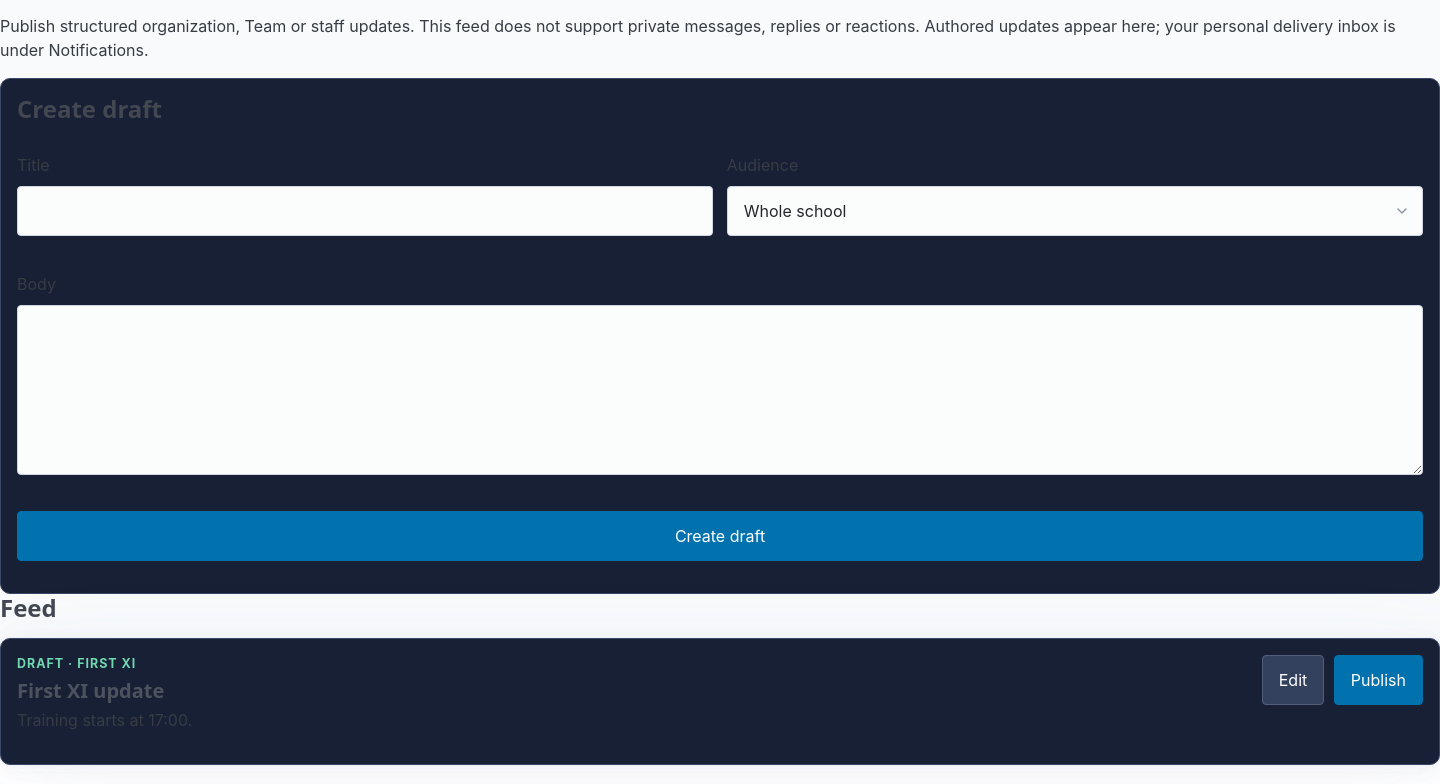
Test case: shared organization announcements view › selects a saved Team and publishes explicitly with delivery counts
(page scrolled)
Click the button with test id "publish-announcement".
click(1378, 680)  # box [1334, 655, 1423, 705]
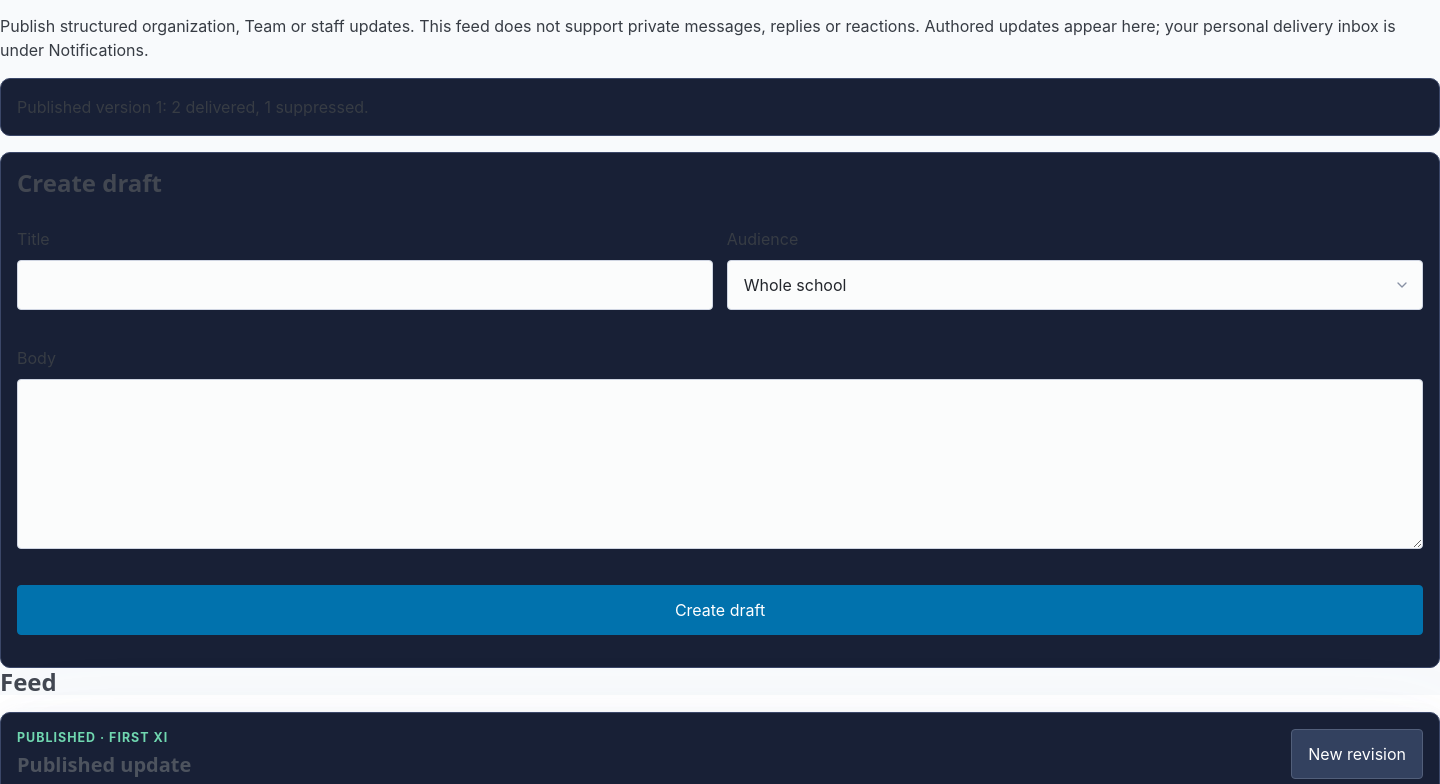
Result: the text "2 delivered, 1 suppressed" is shown at [17, 97, 369, 117]
